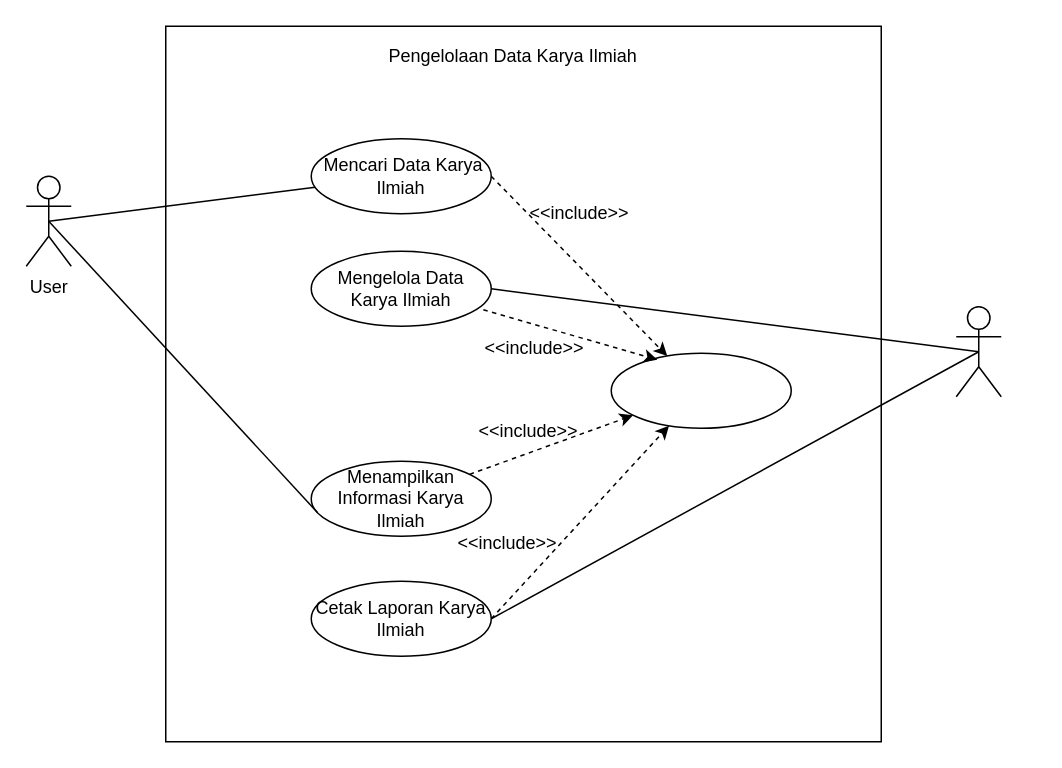
Image size: 1062x768. Some labels were removed from this diagram. Here are the shapes that lost their labels. From the top down, the centre of each, then its label:
At [978,351]: "Program Studi".
At [700,390]: "Login".
